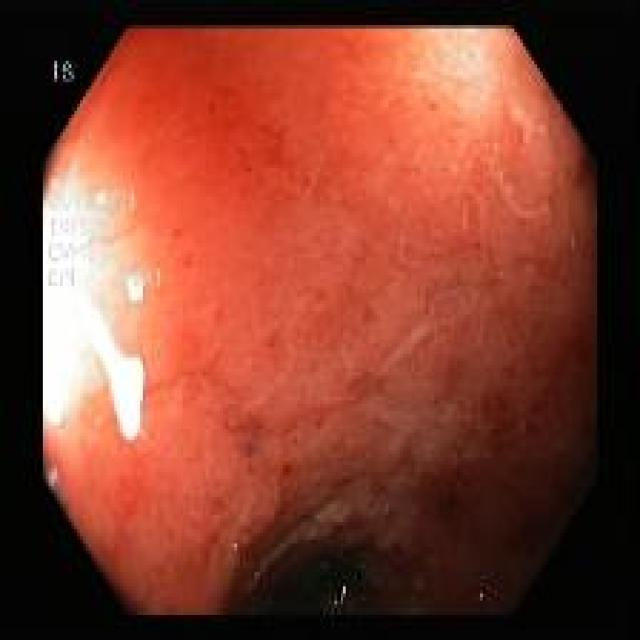ulcerative-colitis: (44, 31, 595, 613)
